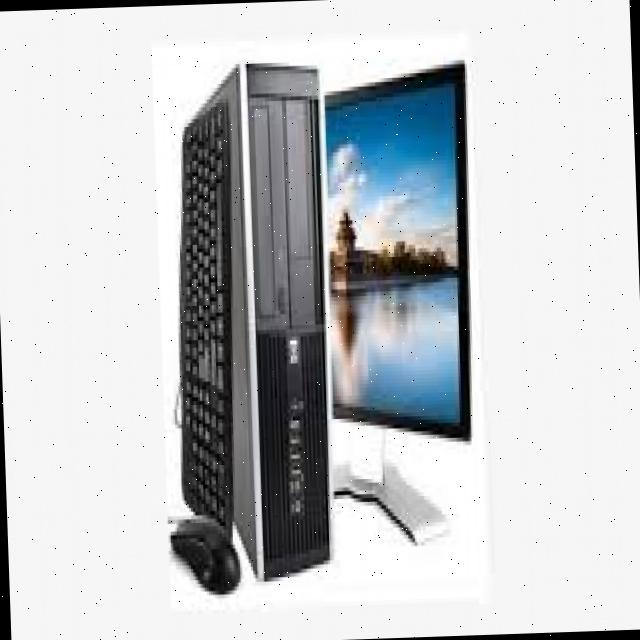Computer: (220, 25, 338, 585)
Monitor: (318, 43, 489, 474)
